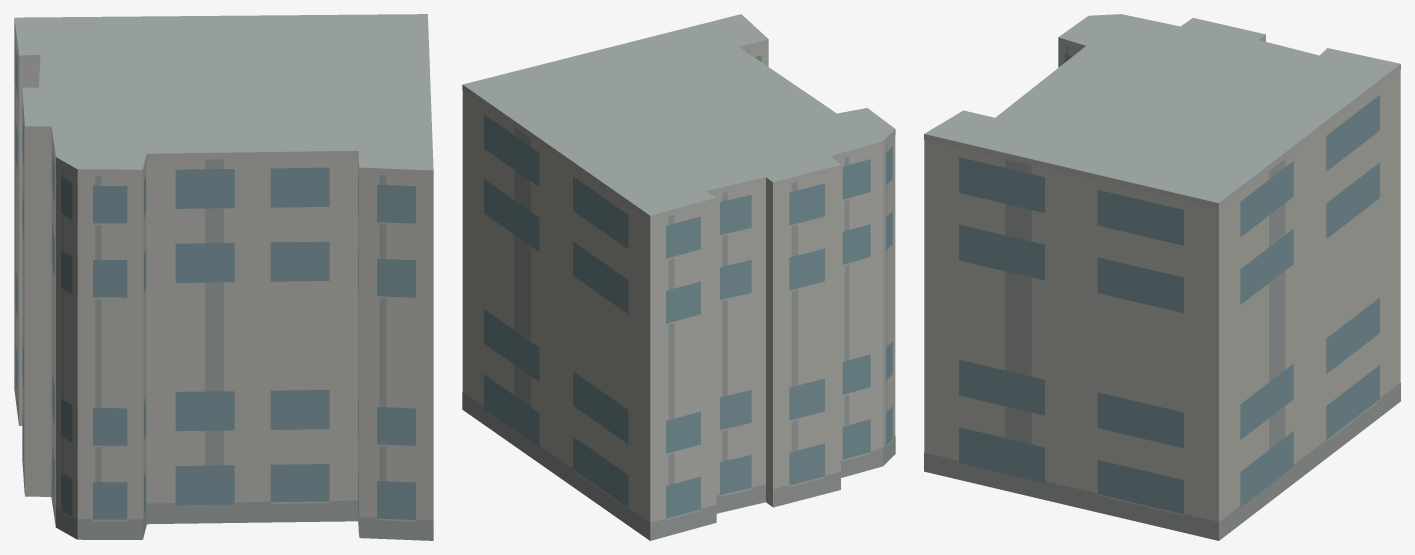
Rendered from survey-upis-32969688.glb.
3 renders of one model, left to right at view 1: azimuth 30°, elevation 25°; view 2: azimuth 150°, elevation 25°; view 3: azimuth 270°, elevation 25°, orthographic. The views are drawn at different scales.
Visible parts, largest first — view 1: survey-upis-32969688.tmp; view 2: survey-upis-32969688.tmp; view 3: survey-upis-32969688.tmp.
Boxes of the visible parts, box(x1,y1,x2,y2) form: survey-upis-32969688.tmp: box(14, 14, 433, 540); survey-upis-32969688.tmp: box(462, 14, 895, 540); survey-upis-32969688.tmp: box(924, 14, 1400, 540).
Size of the model in its own units: 16 by 13.3 by 17.03.
